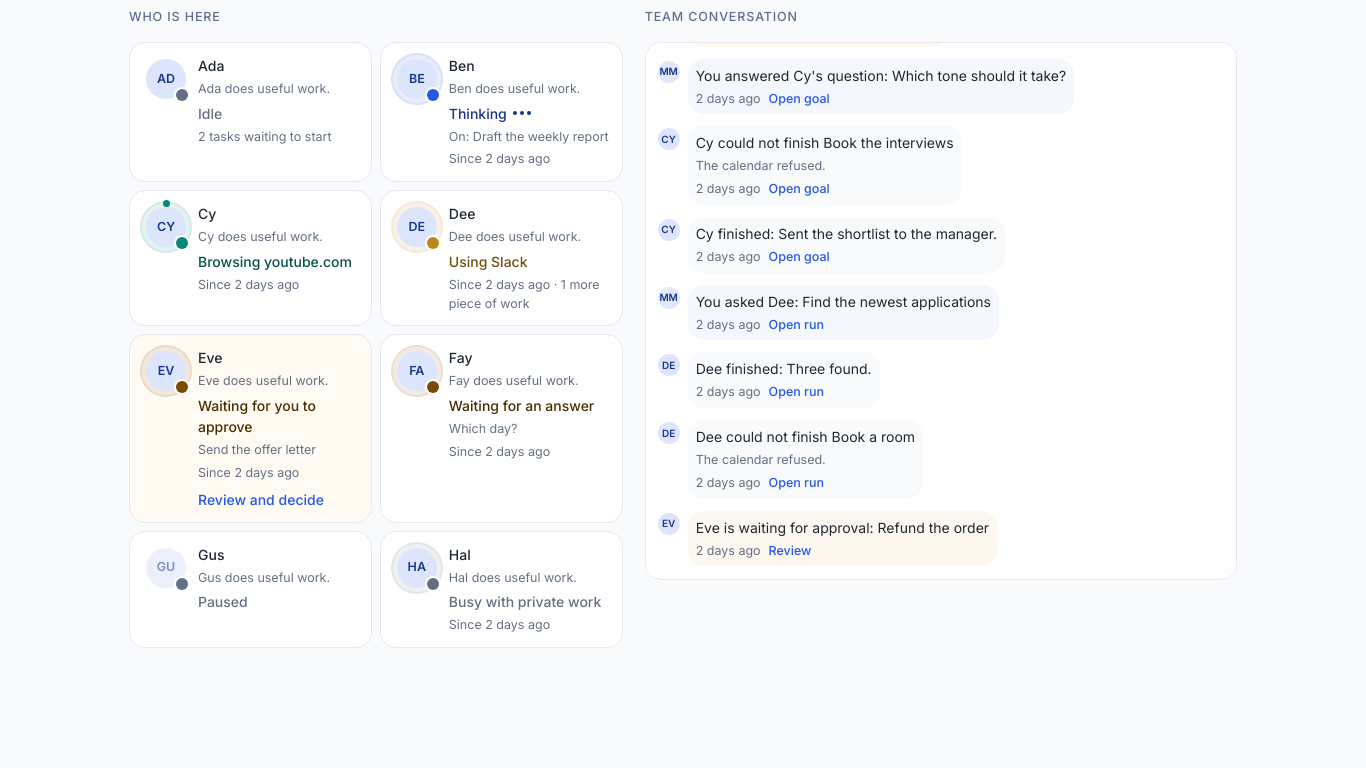
Test: Team room page › opens nothing of private work: the sheet only says the agent is busy
The image size is (1366, 768).
(page scrolled)
Expected: the list named "Agents and what they are doing" is shown, [129, 42, 623, 648]
Click the button that starts with "Hal".
click(501, 589)  # box [381, 532, 622, 647]
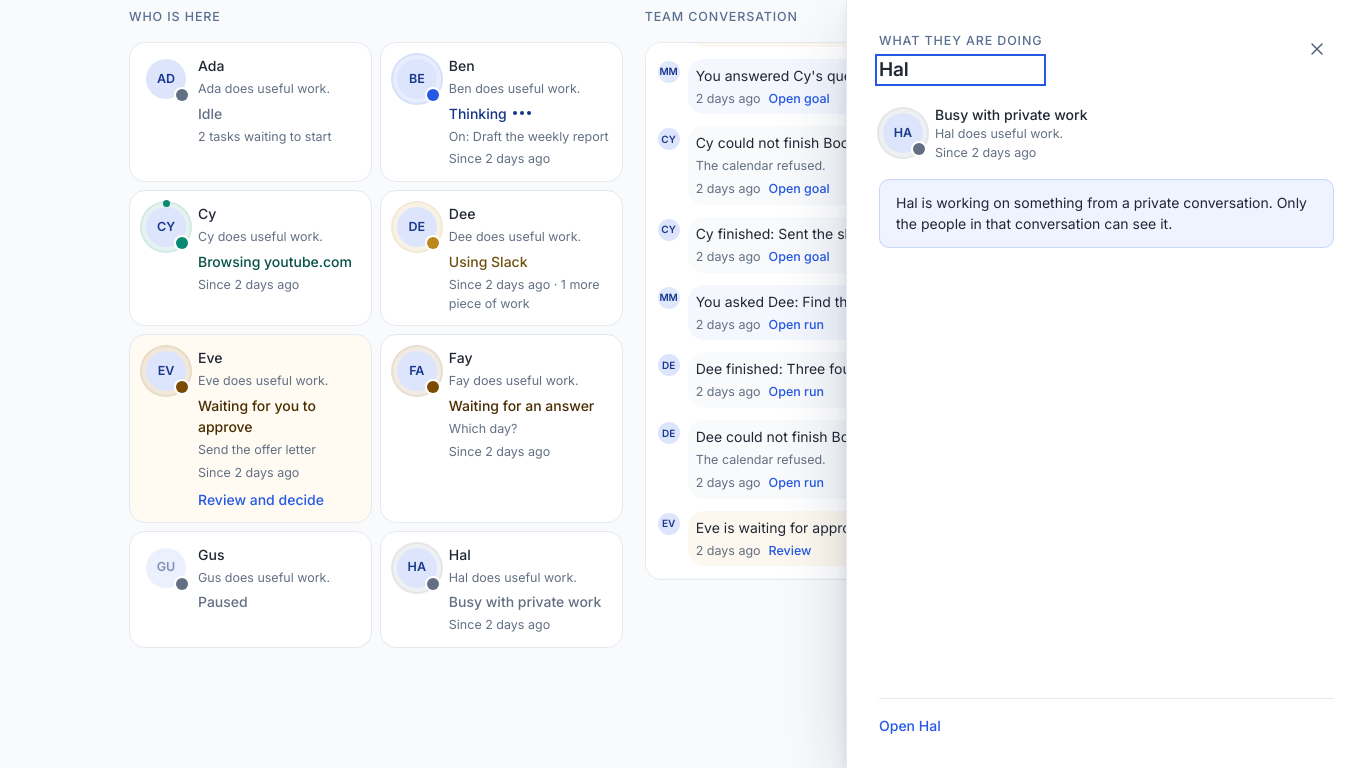
Expected: the text "working on something from a private conversation" is shown, [896, 194, 1307, 232]
